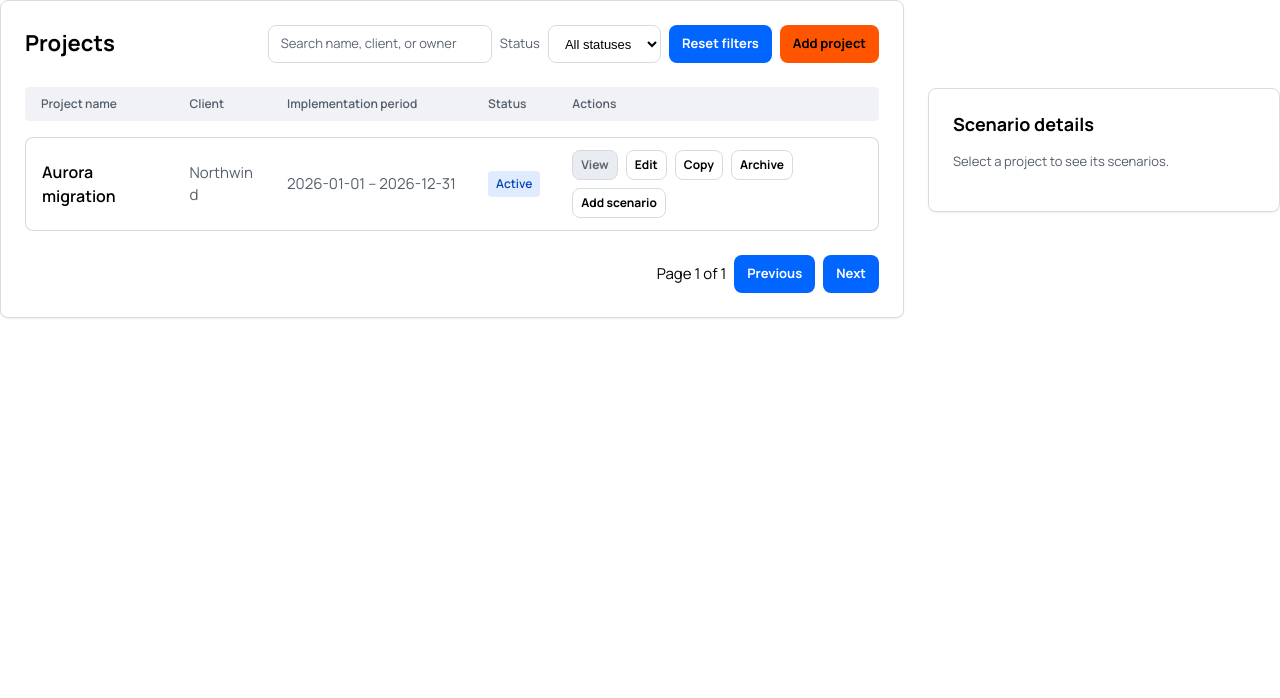
Scenario: K-04 — the five catalogue identifiers resolve through their own CATALOG_READ, independent of STAFFING_READ › treats a partial catalogue failure (four of five reads succeed, one fails) as the same merged unavailable state for all five — never four resolved names beside
This screenshot has width=1280, height=698.
Click the button "Aurora migration" at {"x": 100, "y": 184}, box [42,160,158,208]
(page scrolled)
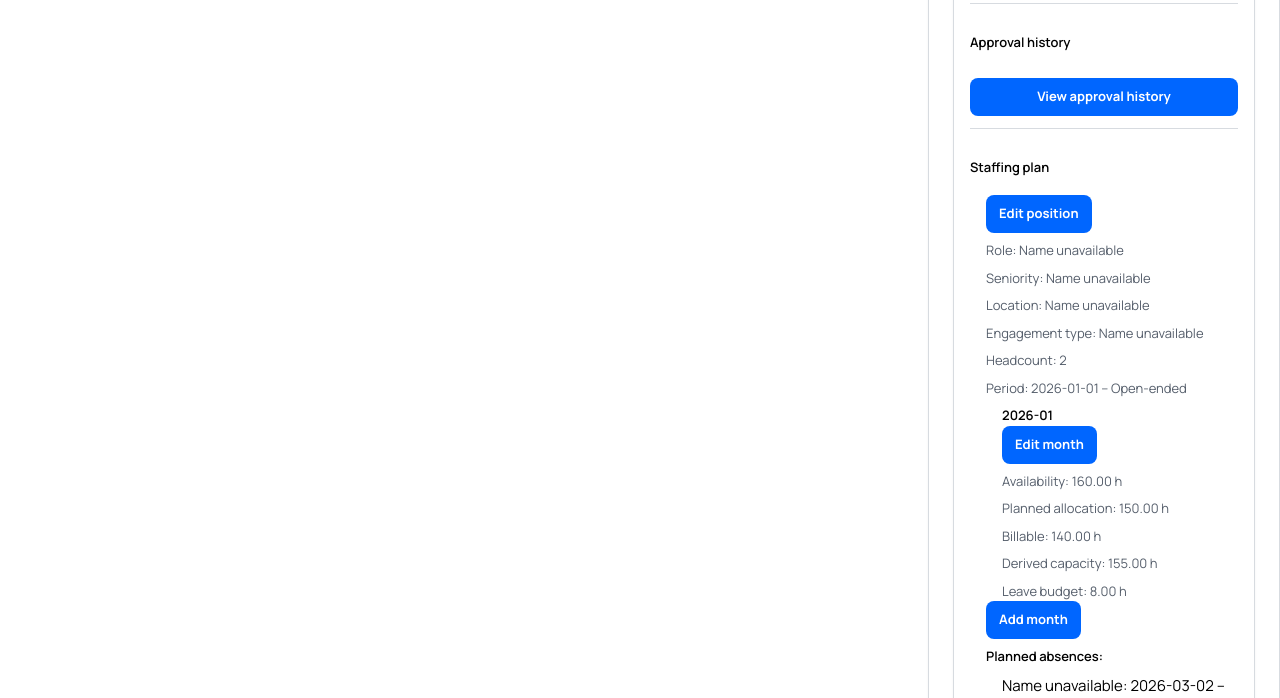
expect the text "Headcount: 2" is shown: met, box [986,351,1067,369]
